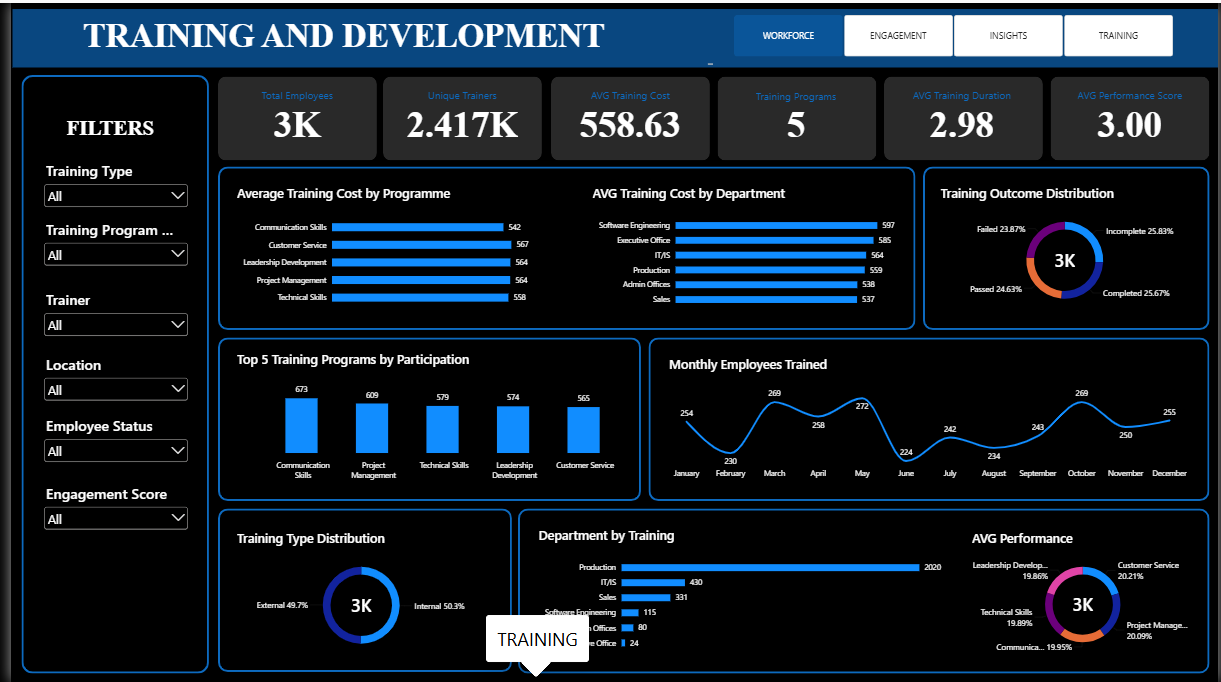

The dashboard page shown, as its layout file describes it:
{"tool":"powerbi","page":{"name":"TRAINING","canvas":[1920,1080],"ordinal":2},"visuals":[{"type":"group","id":"g1","title":"Group 2","box":[329.3,116.9,1577.1,133.6],"z":0},{"type":"shape","box":[1.7,9.5,1918.3,93.1],"z":1000},{"type":"textbox","title":"TRAINING AND DEVELOPMENT","box":[114.5,21.5,1002.1,76.3],"z":2000},{"type":"shape","box":[16.7,114.5,298.2,952],"z":3000},{"type":"group","id":"g2","title":"Group 3","box":[47.5,249.5,238.6,496.1],"z":4000},{"type":"slicer","fields":{"Values":["Employee_Data_Combined_and_Cleaned.Training Type"]},"box":[47.7,249.5,238.1,90.7],"z":4000,"group":"g2"},{"type":"shape","box":[329.3,116.9,252.8,133.6],"z":5000,"group":"g3"},{"type":"textbox","title":"FILTERS","box":[88.3,178.9,150.3,45.3],"z":5000},{"type":"slicer","fields":{"Values":["Employee_Data_Combined_and_Cleaned.Training Program Name"]},"box":[47.7,343,238.1,90.7],"z":5000,"group":"g2"},{"type":"cardVisual","fields":{"Data":["Count(Employee_Data_Combined_and_Cleaned.Employee ID)"]},"box":[338.8,119.3,233.8,126.5],"z":6000},{"type":"slicer","fields":{"Values":["Employee_Data_Combined_and_Cleaned.Trainer"]},"box":[47.7,453.6,238.1,90.7],"z":6000,"group":"g2"},{"type":"shape","box":[591.5,116.9,252.8,133.6],"z":7000,"group":"g3"},{"type":"cardVisual","fields":{"Data":["Count(Employee_Data_Combined_and_Cleaned.Trainer)"]},"box":[601.3,119.3,233.8,126.5],"z":7000},{"type":"slicer","fields":{"Values":["Employee_Data_Combined_and_Cleaned.Location"]},"box":[47.5,558.4,238.6,78.7],"z":7000,"group":"g2"},{"type":"shape","box":[858.4,116.9,252.8,133.6],"z":8000,"group":"g3"},{"type":"slicer","fields":{"Values":["Employee_Data_Combined_and_Cleaned.Employee Status"]},"box":[47.7,654.9,238.1,90.7],"z":8000,"group":"g2"},{"type":"slicer","fields":{"Values":["Employee_Data_Combined_and_Cleaned.Engagement Score"]},"box":[47.7,763.5,238.6,78.7],"z":8000},{"type":"shape","box":[1122.9,116.9,252.8,133.6],"z":9000,"group":"g3"},{"type":"cardVisual","fields":{"Data":["Avg(Employee_Data_Combined_and_Cleaned.Training Cost)"]},"box":[868.5,119.3,233.8,126.5],"z":9000},{"type":"shape","box":[1387.5,116.9,252.8,133.6],"z":10000,"group":"g3"},{"type":"shape","box":[1653.5,116.9,252.9,133.6],"z":10000,"group":"g1"},{"type":"cardVisual","fields":{"Data":["Count(Employee_Data_Combined_and_Cleaned.Training Program Name)"]},"box":[1147.6,138.4,202.8,90.7],"z":10000},{"type":"cardVisual","fields":{"Data":["Avg(Employee_Data_Combined_and_Cleaned.Training Duration (Days))"]},"box":[1395.8,119.3,233.8,126.5],"z":11000},{"type":"group","id":"g3","title":"Group 1","box":[329.3,116.9,1311,133.6],"z":11001,"group":"g1"},{"type":"cardVisual","fields":{"Data":["Avg(Employee_Data_Combined_and_Cleaned.Performance Score)"]},"box":[1663,119.3,233.8,126.5],"z":12000},{"type":"shape","box":[329.3,260.1,1109.5,260.1],"z":13000},{"type":"shape","box":[329.3,804.1,467.6,260.1],"z":14000},{"type":"shape","box":[1450.6,260.1,455.7,260.1],"z":16000},{"type":"shape","box":[1014,532.1,892.3,260.1],"z":17000},{"type":"shape","box":[329.3,532.1,672.8,260.1],"z":18000},{"type":"shape","box":[806.4,804.1,1099.9,262.5],"z":19000},{"type":"donutChart","title":"Training Outcome Distribution","fields":{"Category":["Employee_Data_Combined_and_Cleaned.Training Outcome"],"Y":["CountNonNull(Employee_Data_Combined_and_Cleaned.Employee ID)"]},"box":[1462.6,274.4,427.1,229],"z":20000},{"type":"barChart","title":"Department by Training","fields":{"Category":["Employee_Data_Combined_and_Cleaned.Department Type"],"Y":["CountNonNull(Employee_Data_Combined_and_Cleaned.Employee ID)"]},"box":[823.1,818.4,680,231.4],"z":21000},{"type":"lineChart","title":"Monthly Employees Trained","fields":{"Category":["Employee_Data_Combined_and_Cleaned.Training Date.Variation.Date Hierarchy.Month"],"Y":["Count(Employee_Data_Combined_and_Cleaned.Employee ID)"]},"box":[1030.7,546.4,858.9,231.4],"z":22000},{"type":"donutChart","title":"Training Type Distribution","fields":{"Category":["Employee_Data_Combined_and_Cleaned.Training Type"],"Y":["CountNonNull(Employee_Data_Combined_and_Cleaned.Employee ID)"]},"box":[343.6,823.1,427.1,229],"z":24000},{"type":"donutChart","title":"AVG Performance ","fields":{"Category":["Employee_Data_Combined_and_Cleaned.Training Program Name"],"Y":["Avg(Employee_Data_Combined_and_Cleaned.Performance Score)"]},"box":[1512.7,823.1,384.1,226.7],"z":25000},{"type":"barChart","title":"Average Training Cost by Programme","fields":{"Category":["Employee_Data_Combined_and_Cleaned.Training Program Name"],"Y":["Avg(Employee_Data_Combined_and_Cleaned.Training Cost)"]},"box":[343.6,274.4,496.3,229],"z":26000},{"type":"columnChart","title":"Top 5 Training Programs by Participation","fields":{"Category":["Employee_Data_Combined_and_Cleaned.Training Program Name"],"Y":["Count(Employee_Data_Combined_and_Cleaned.Employee ID)"]},"box":[343.6,539.2,658.5,238.6],"z":27000},{"type":"bookmarkNavigator","box":[1150,19.1,701.5,66.8],"z":28000},{"type":"barChart","title":"AVG Training Cost by Department","fields":{"Category":["Employee_Data_Combined_and_Cleaned.Department Type"],"Y":["Avg(Employee_Data_Combined_and_Cleaned.Training Cost)"]},"box":[909,274.4,513,229],"z":29000}]}

Visuals, with their boxes in screenshot pixels (x1, y1, x2, y2), scaled from the page's 1920x1080 canvas onto the 1221x682 screenshot:
"Group 2" group: locate(209, 74, 1212, 158)
shape: locate(1, 6, 1220, 65)
"TRAINING AND DEVELOPMENT" textbox: locate(73, 14, 710, 62)
shape: locate(11, 72, 200, 673)
"Group 3" group: locate(30, 158, 182, 471)
slicer - Employee_Data_Combined_and_Cleaned.Training Type: locate(30, 158, 182, 215)
shape: locate(209, 74, 370, 158)
"FILTERS" textbox: locate(56, 113, 152, 142)
slicer - Employee_Data_Combined_and_Cleaned.Training Program Name: locate(30, 217, 182, 274)
cardVisual - Count(Employee_Data_Combined_and_Cleaned.Employee ID): locate(215, 75, 364, 155)
slicer - Employee_Data_Combined_and_Cleaned.Trainer: locate(30, 286, 182, 344)
shape: locate(376, 74, 537, 158)
cardVisual - Count(Employee_Data_Combined_and_Cleaned.Trainer): locate(382, 75, 531, 155)
slicer - Employee_Data_Combined_and_Cleaned.Location: locate(30, 353, 182, 402)
shape: locate(546, 74, 707, 158)
slicer - Employee_Data_Combined_and_Cleaned.Employee Status: locate(30, 414, 182, 471)
slicer - Employee_Data_Combined_and_Cleaned.Engagement Score: locate(30, 482, 182, 532)
shape: locate(714, 74, 875, 158)
cardVisual - Avg(Employee_Data_Combined_and_Cleaned.Training Cost): locate(552, 75, 701, 155)
shape: locate(882, 74, 1043, 158)
shape: locate(1052, 74, 1212, 158)
cardVisual - Count(Employee_Data_Combined_and_Cleaned.Training Program Name): locate(730, 87, 859, 145)
cardVisual - Avg(Employee_Data_Combined_and_Cleaned.Training Duration (Days)): locate(888, 75, 1036, 155)
"Group 1" group: locate(209, 74, 1043, 158)
cardVisual - Avg(Employee_Data_Combined_and_Cleaned.Performance Score): locate(1058, 75, 1206, 155)
shape: locate(209, 164, 915, 328)
shape: locate(209, 508, 507, 672)
shape: locate(922, 164, 1212, 328)
shape: locate(645, 336, 1212, 500)
shape: locate(209, 336, 637, 500)
shape: locate(513, 508, 1212, 674)
"Training Outcome Distribution" donutChart: locate(930, 173, 1202, 318)
"Department by Training" barChart: locate(523, 517, 956, 663)
"Monthly Employees Trained" lineChart: locate(655, 345, 1202, 491)
"Training Type Distribution" donutChart: locate(219, 520, 490, 664)
"AVG Performance " donutChart: locate(962, 520, 1206, 663)
"Average Training Cost by Programme" barChart: locate(219, 173, 534, 318)
"Top 5 Training Programs by Participation" columnChart: locate(219, 340, 637, 491)
bookmarkNavigator: locate(731, 12, 1177, 54)
"AVG Training Cost by Department" barChart: locate(578, 173, 904, 318)
